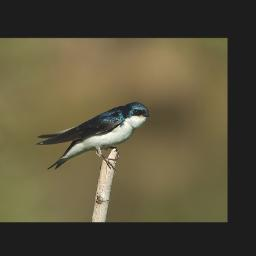Swallow: (33, 101, 152, 174)
